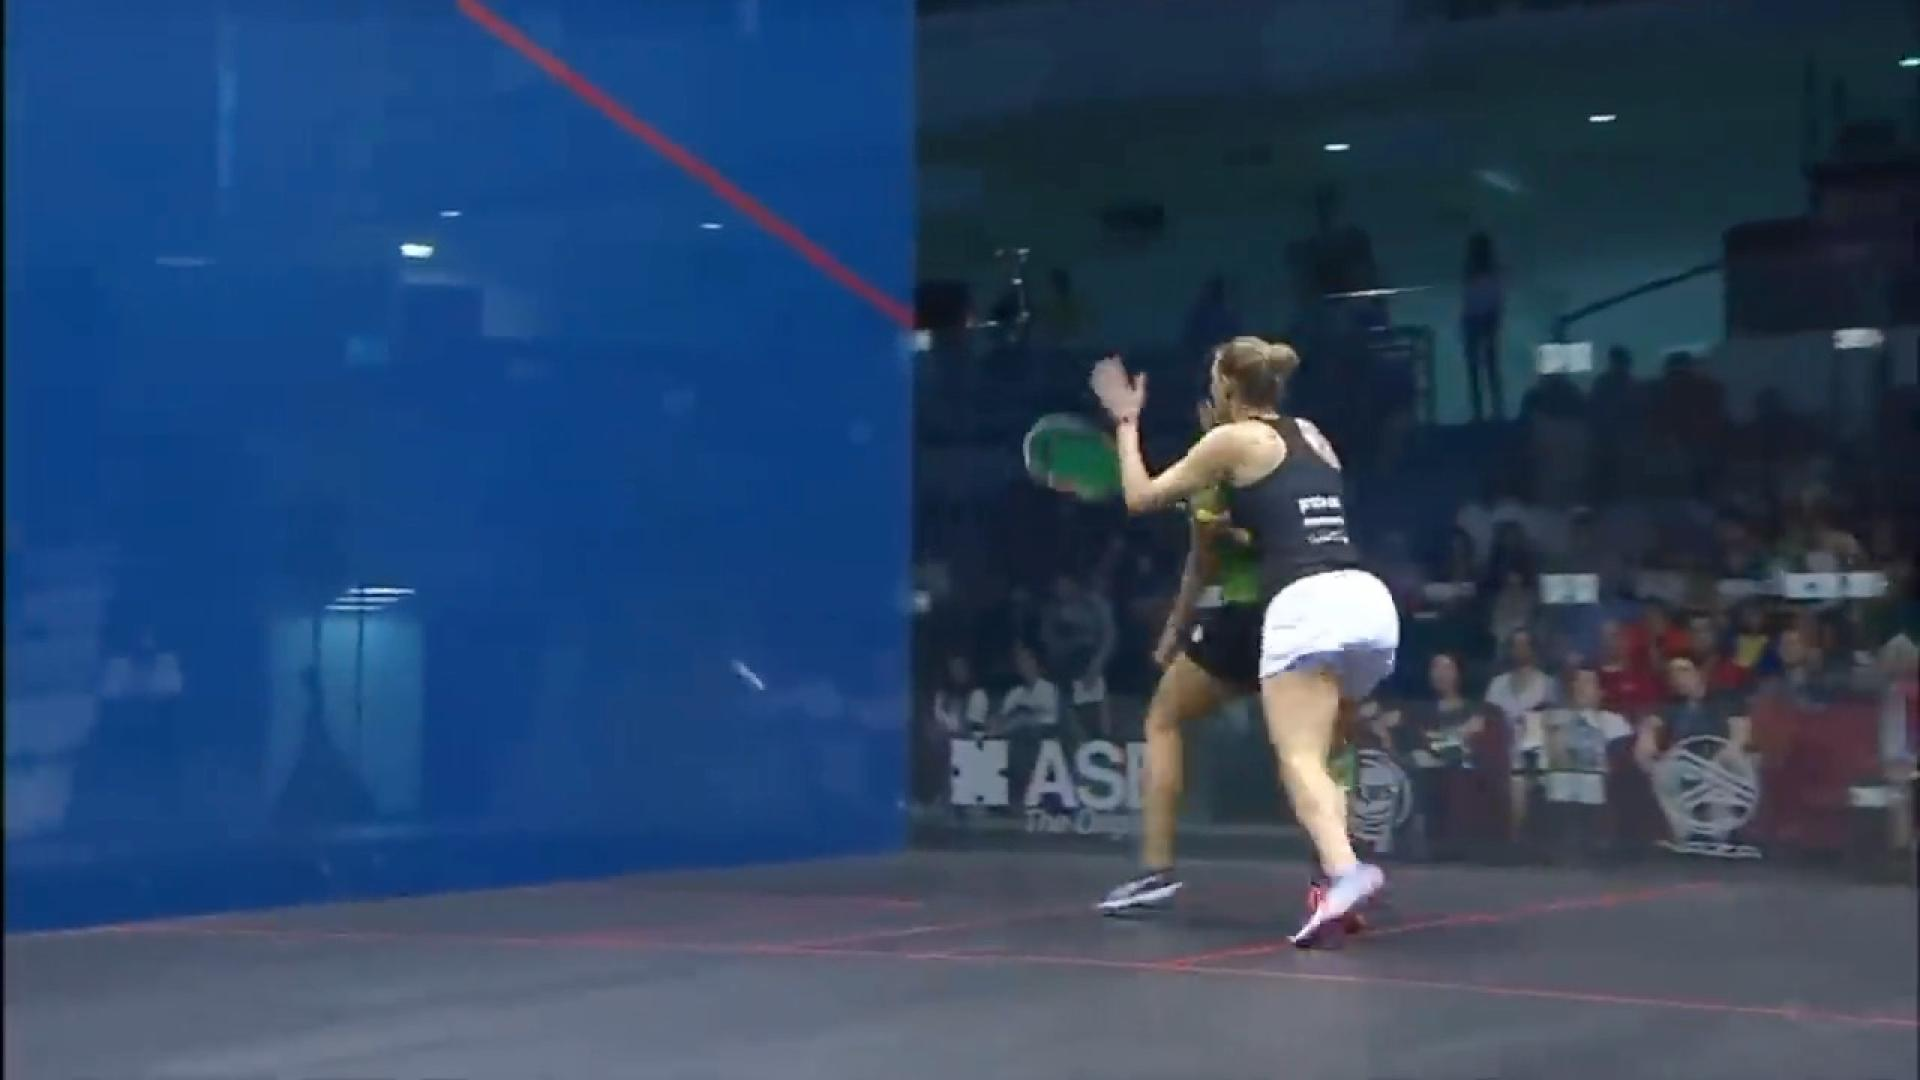Squash-Ball: (731, 653, 775, 705)
